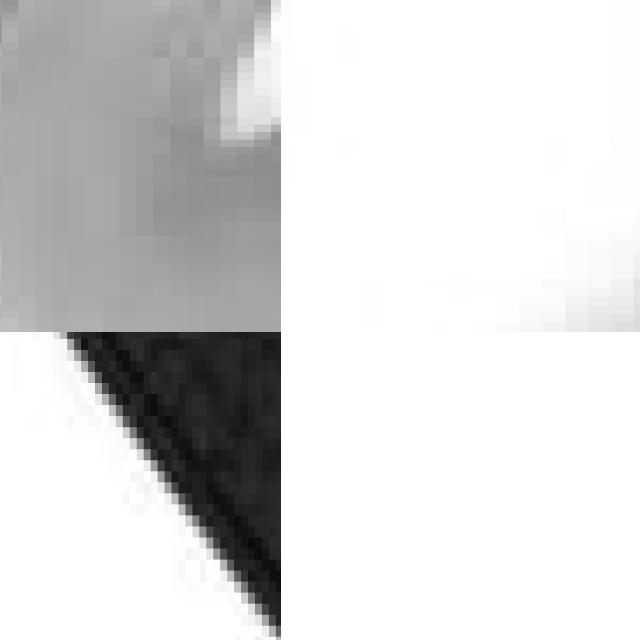spoons: (281, 0, 640, 332), (0, 0, 281, 332)
